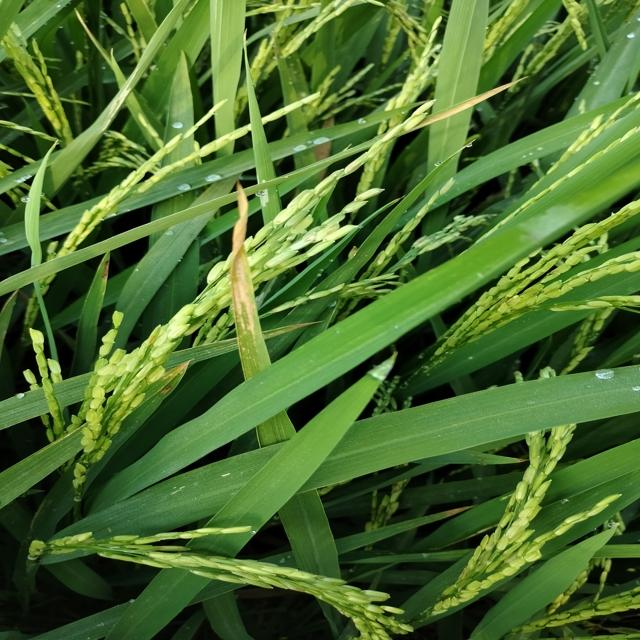green leaf hopper: (218, 179, 273, 354)
healthy: (429, 75, 532, 124)
